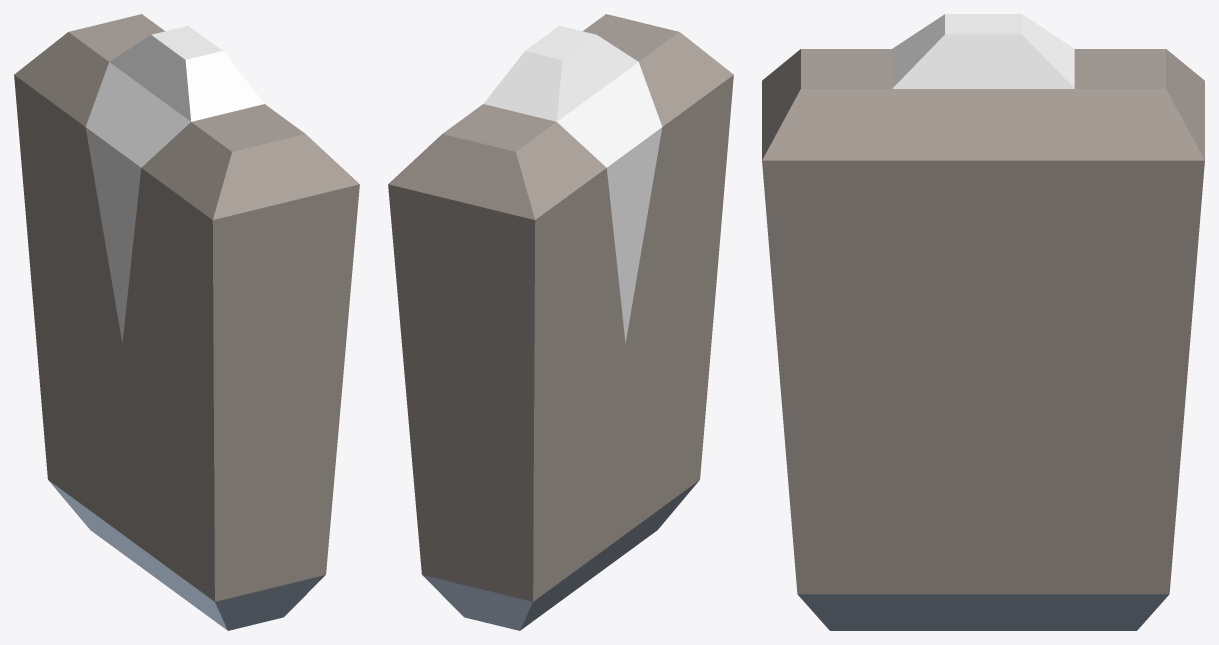
The model's file is Bandit1Torso.fbx.
3 views of the same model, side by side, from view 1: azimuth 30°, elevation 25°; view 2: azimuth 150°, elevation 25°; view 3: azimuth 270°, elevation 25° (orthographic). The views are drawn at different scales.
Parts seen in each view (by area): view 1: Bandit1Torso; view 2: Bandit1Torso; view 3: Bandit1Torso.
Boxes of the visible parts, x1=… form: Bandit1Torso: x1=14, y1=14, x2=359, y2=630; Bandit1Torso: x1=388, y1=14, x2=733, y2=630; Bandit1Torso: x1=762, y1=14, x2=1204, y2=630.
Size of the model in its own units: 0.2075 by 0.7157 by 0.4856.
